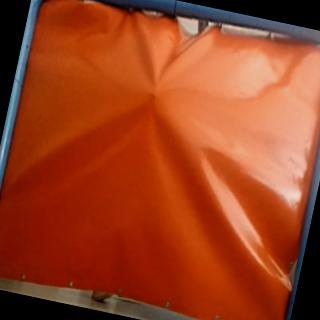Hit-hRxx: (140, 83, 167, 105)
